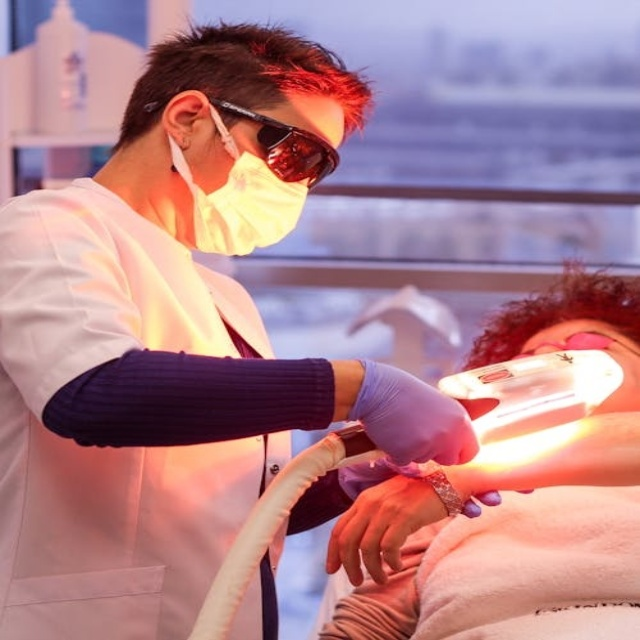Gafas: (188, 94, 340, 193)
Guantes: (342, 351, 483, 468)
Mascara: (167, 102, 313, 256)
Sin_guantes: (324, 466, 478, 584)
